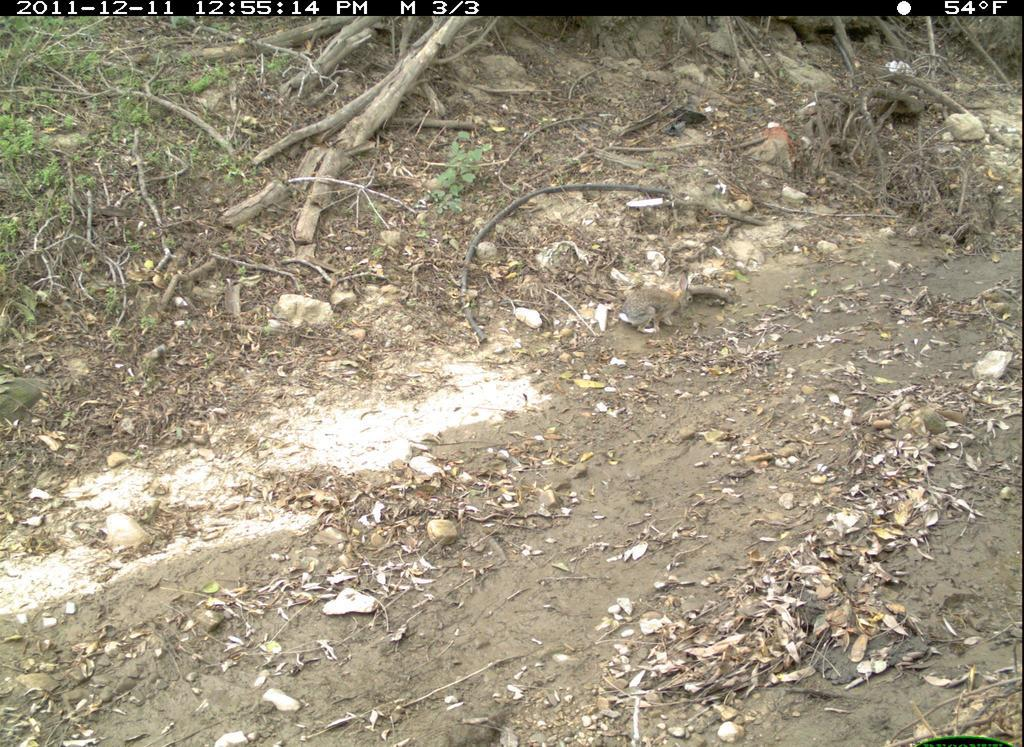rabbit: (614, 264, 699, 340)
